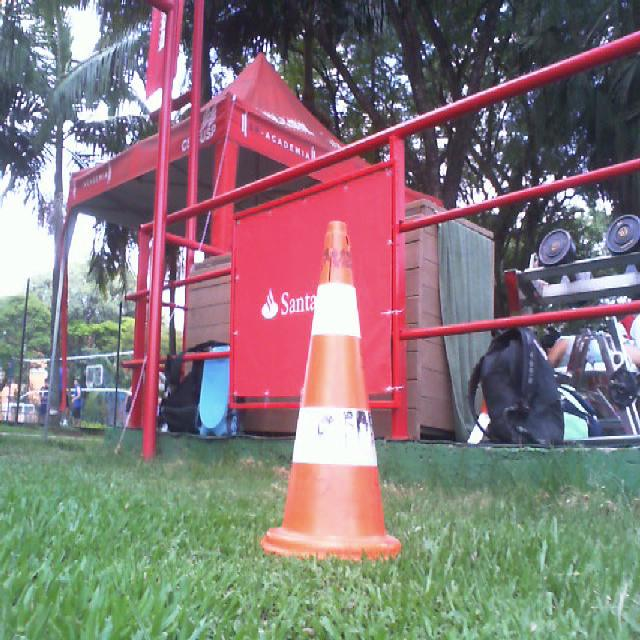cone: (262, 219, 402, 561)
